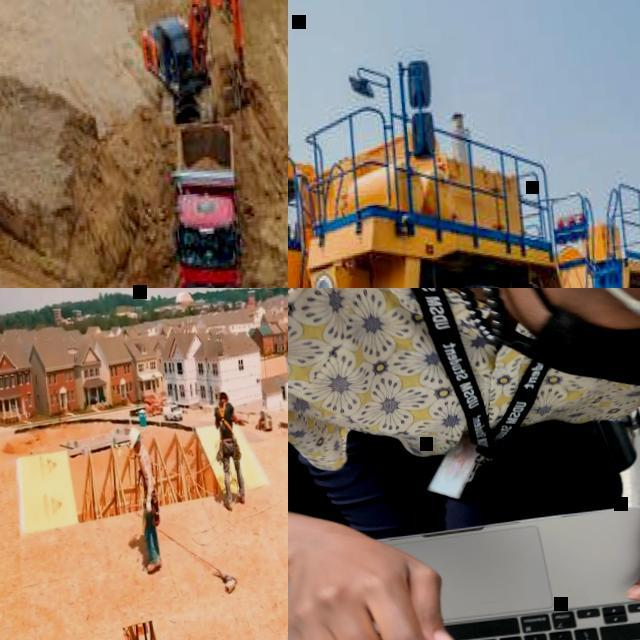Helmet: (121, 429, 150, 451)
Robbery: (287, 283, 640, 640), (110, 418, 222, 608), (194, 381, 269, 506)
